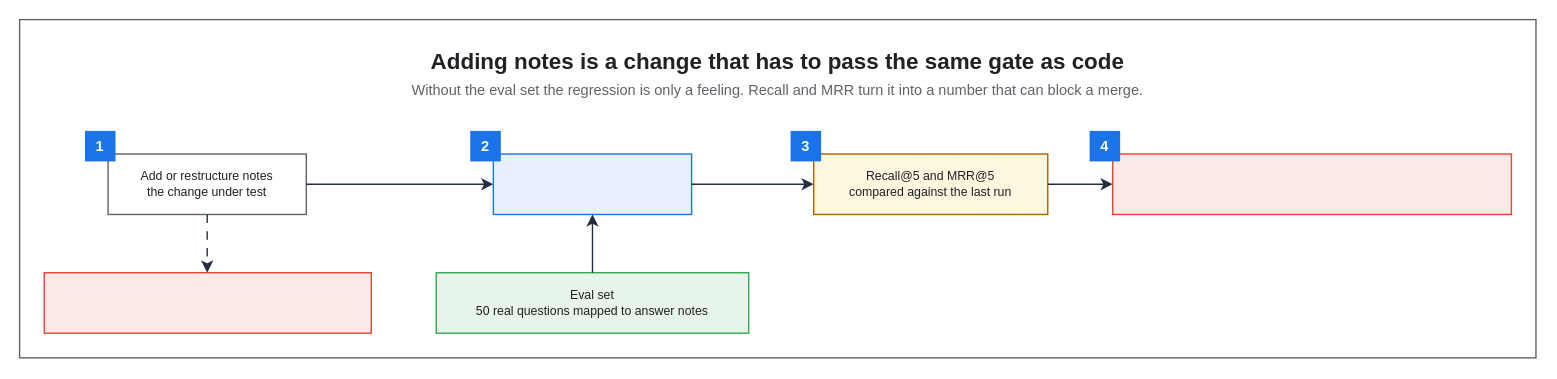
This 1557x379 diagram has some shape labels left out. The centre of each missing label's shape, as x and y in pixels:
"Deterministic retriever same input, same ranking" goes at [592,184].
"Gate recall drops, the change is reverted or restructured" goes at [1311,184].
"Unreachable notes not linked from any hub, never a candidate" goes at [207,302].
